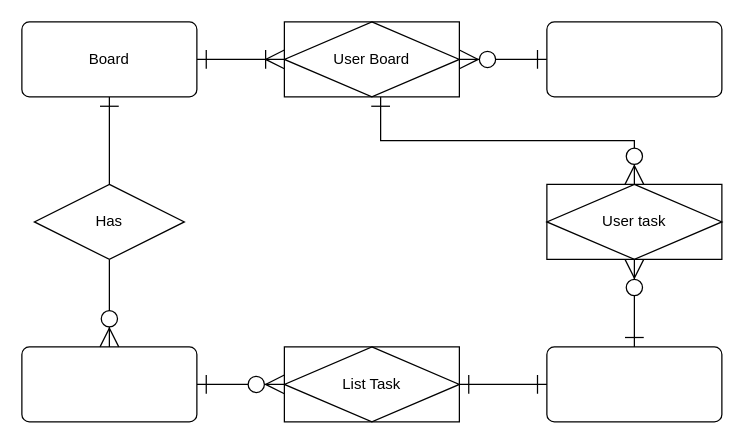
The diagram is 744 pixels wide and 444 high, and some of its shapes have lost their labels. The shapes that lost their labels are listed below. From the top down, each one's box as (x1, y1, x2, y2) in pixels, then its label:
(546, 21, 722, 97): User
(21, 346, 197, 422): List
(546, 346, 722, 422): Task
